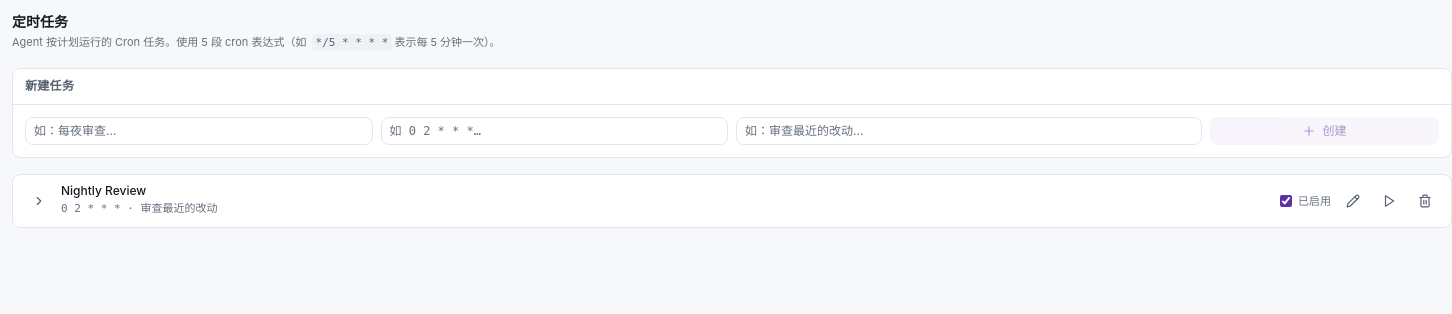
ScheduledTab editing (P2-5) › cancel leaves the job untouched — no create, no delete
Expected: the list item with test id "settings-job-row-job_1" is shown, x1=12 y1=174 x2=1451 y2=228
Click the button with test id "settings-job-edit-job_1" at (1353, 200), box x1=1339 y1=186 x2=1367 y2=214
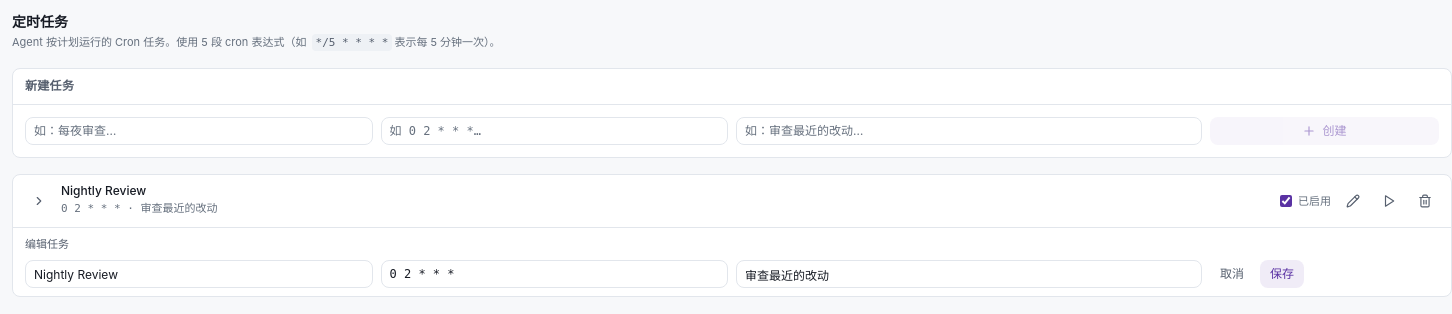
Replace the text in the field with test id "settings-job-edit-name" with "Discarded" at (199, 274), box x1=25 y1=260 x2=372 y2=288
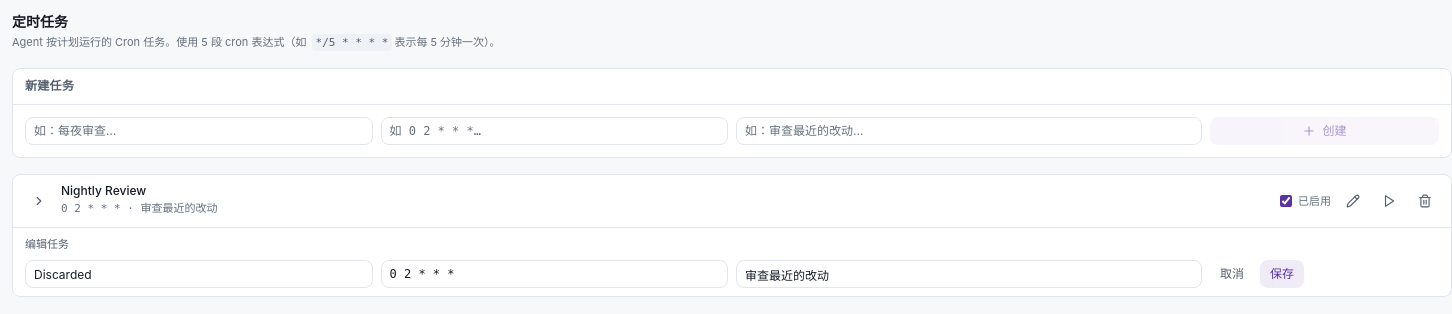
Click the button with test id "settings-job-edit-cancel" at (1232, 274), box x1=1210 y1=260 x2=1254 y2=288
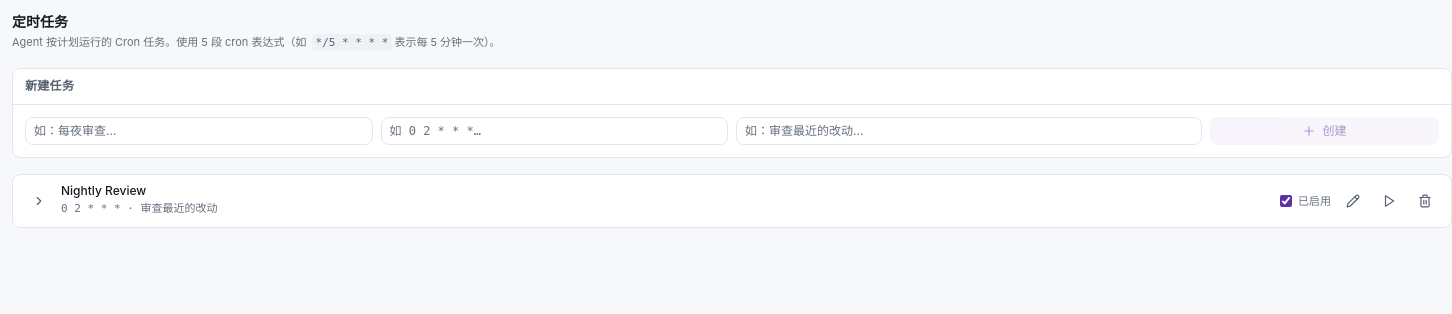
Expected: the text "Nightly Review" is shown, x1=61 y1=182 x2=146 y2=198
Expected: the element with test id "settings-job-edit-form-job_1" is gone
